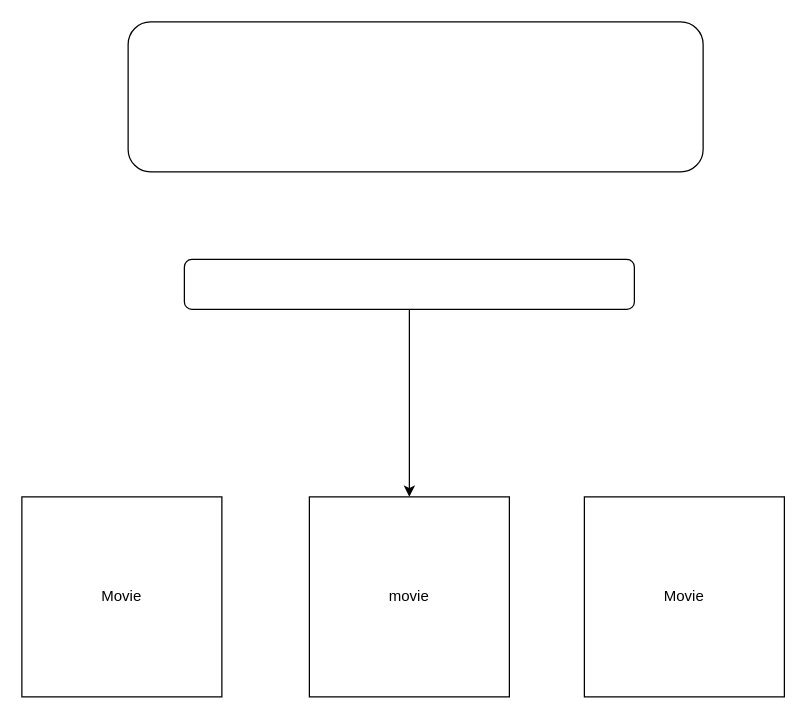
This 806x719 diagram has some shape labels left out. Here are the shapes that lost their labels. From the top down, the centre of each, then its label:
the point at 415,96: Hulu Disney Plus Netflix
the point at 408,283: Get Bundle Now!
